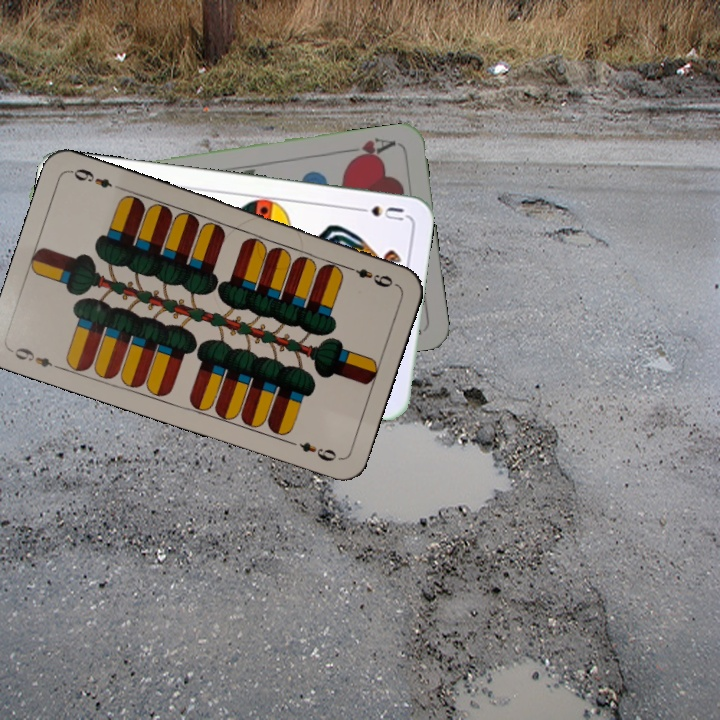E9: (8, 343, 65, 373), (341, 261, 398, 290)
HA: (340, 133, 399, 164)
SU: (349, 202, 407, 223)
